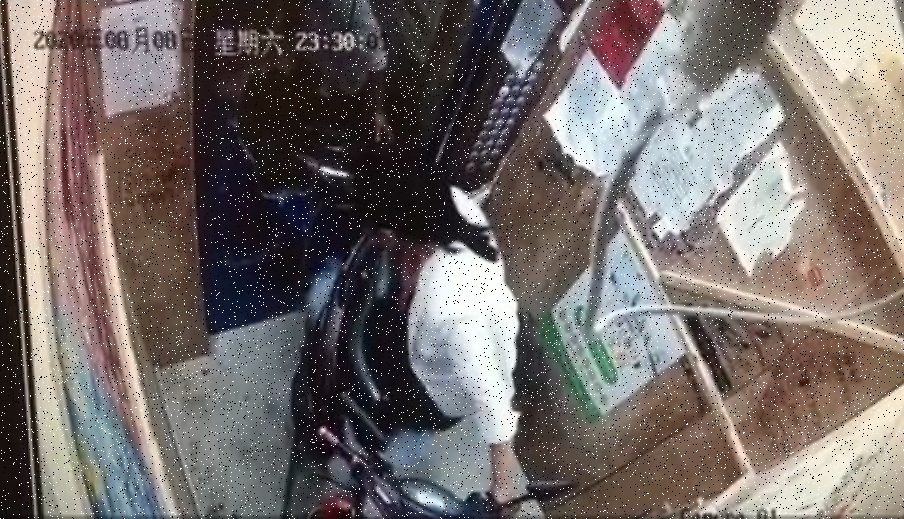ebike: (297, 213, 572, 518)
person: (353, 154, 550, 516)
